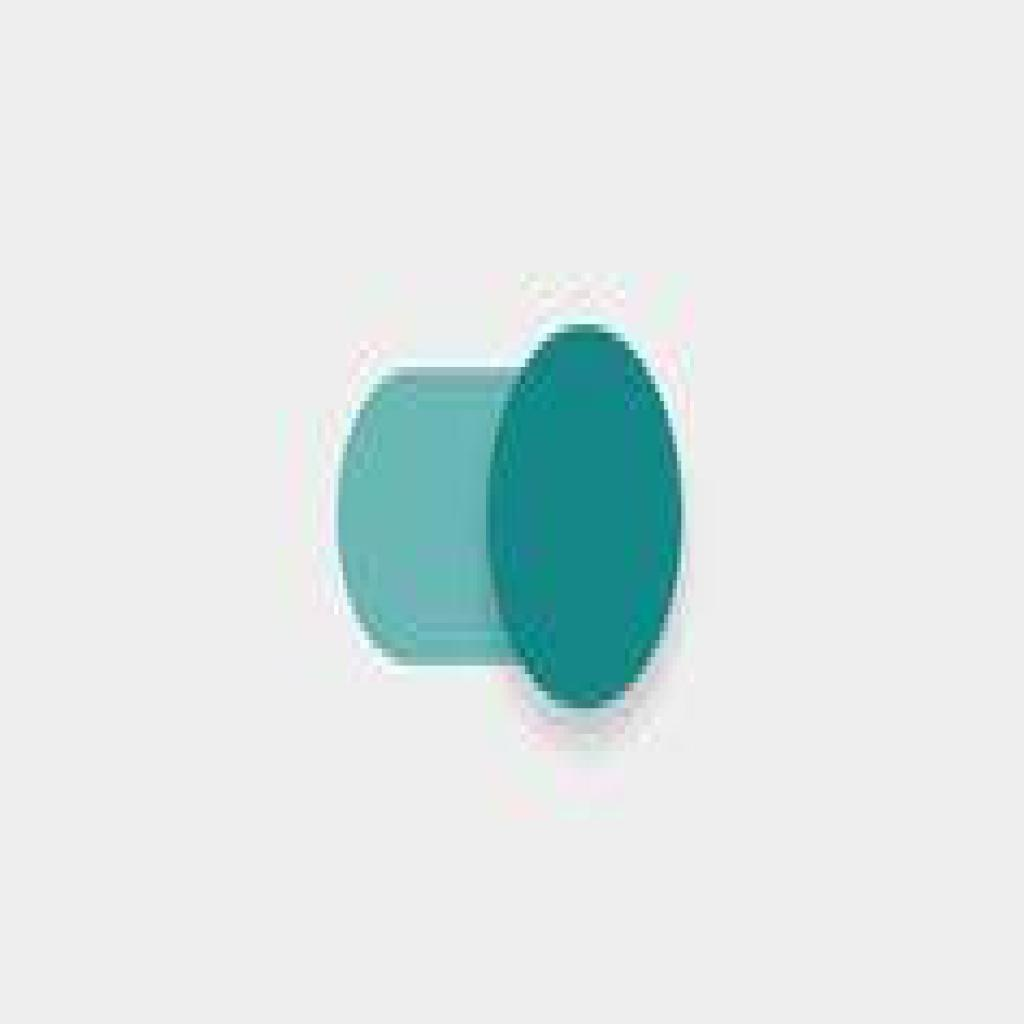switch: (334, 326, 684, 703)
